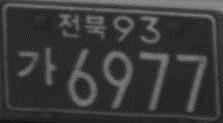3: (139, 15, 161, 43)
6: (66, 47, 98, 107)
7: (139, 50, 170, 112), (176, 53, 206, 112)
9: (102, 49, 133, 108), (112, 15, 134, 41)
가: (15, 47, 57, 85)
전북_O: (57, 12, 107, 39)
